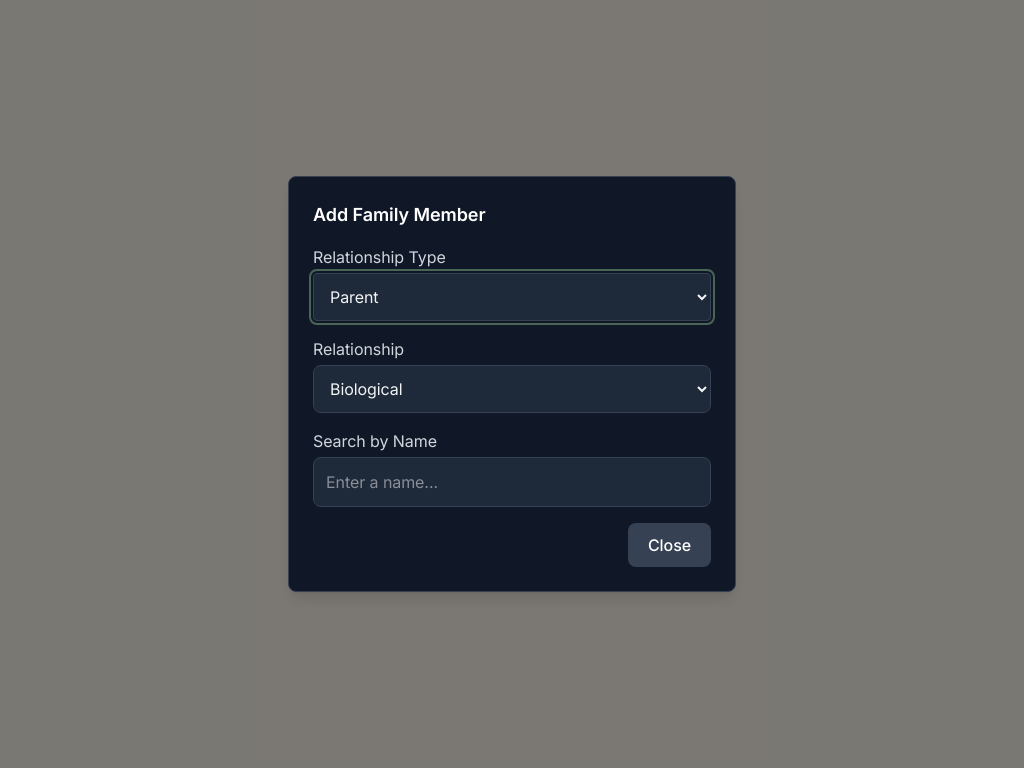
Test: AddMemberModal error handling › surfaces an error and keeps the modal open when linkParentChild throws
Type "Ada" into the field with placeholder "Enter a name..." at (512, 482), box [313,457,711,507]
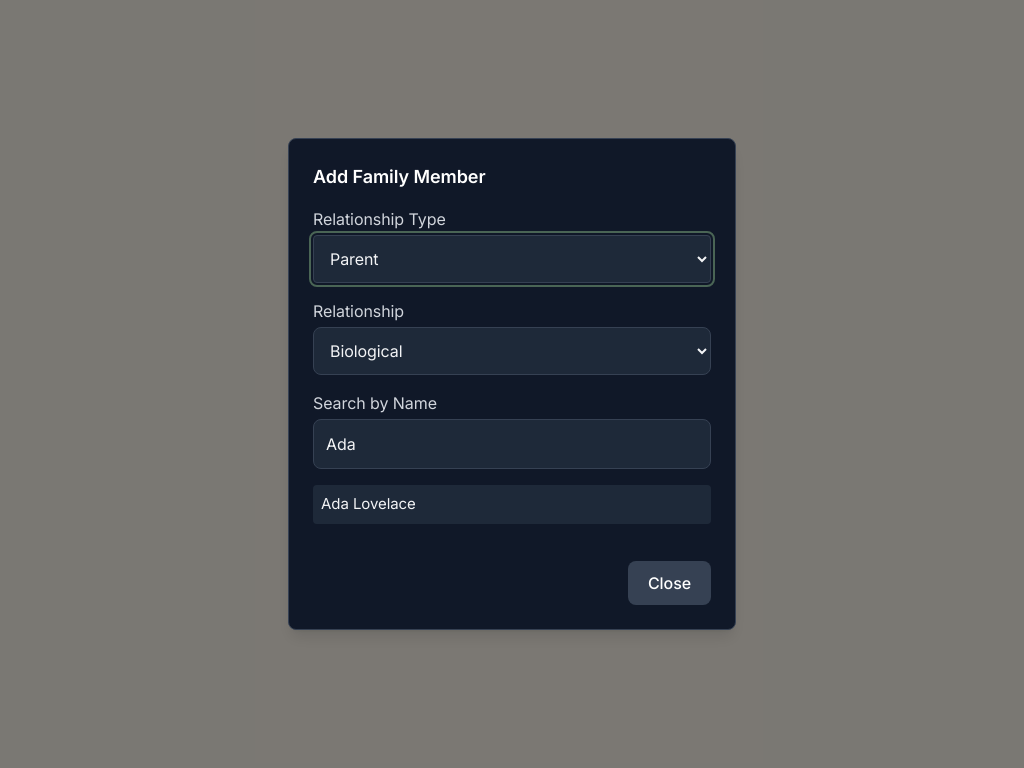
Click the button "Ada Lovelace" at (384, 504), box [313,485,711,524]
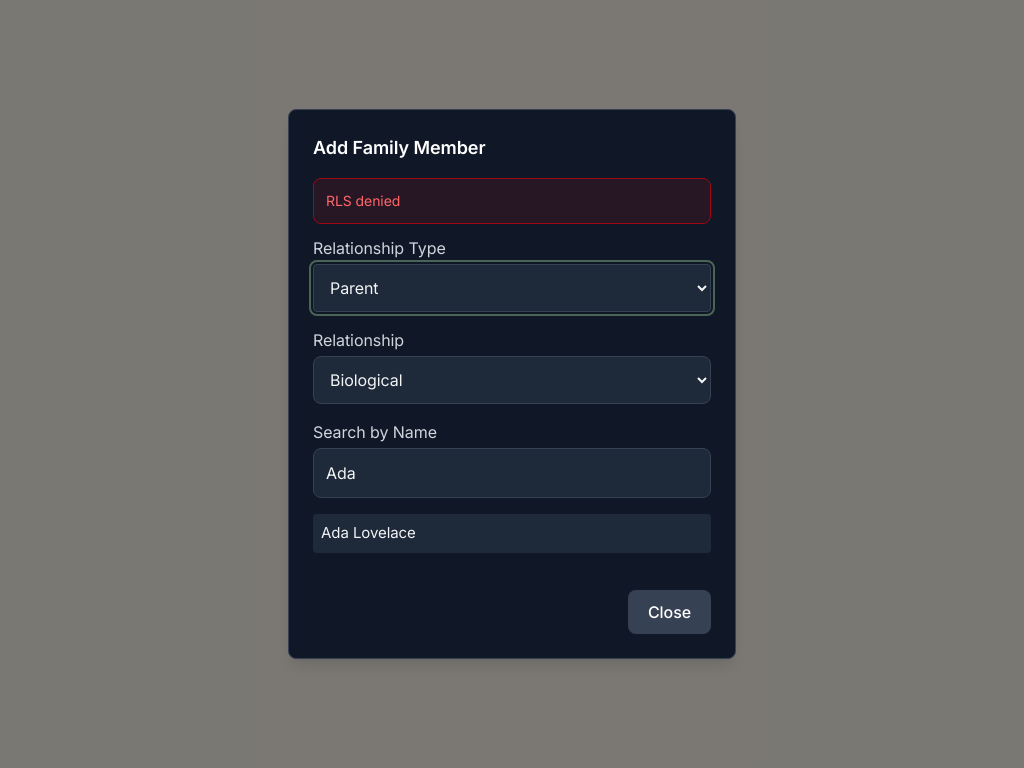
Result: the message reads "RLS denied" at [326,192,400,209]
